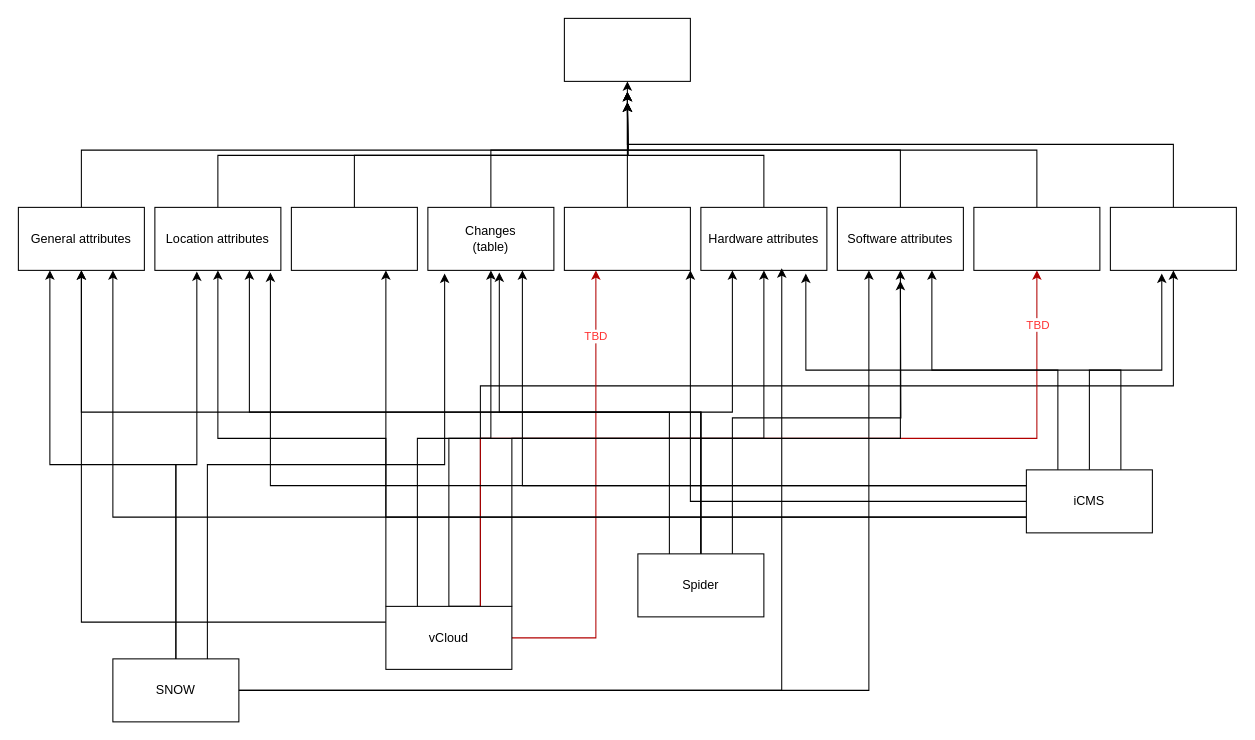
Image size: 1255x740. Some labels were removed from this diagram. The box of each missing label's shape, as (x1, y1, x2, y2) in pixels:
Cloud attributes: (563, 206, 690, 270)
GCP: (563, 17, 690, 81)
Interdependencies (table): (290, 206, 417, 270)
Product attributes: (1109, 206, 1236, 270)
Resilience attributes: (973, 206, 1100, 270)
